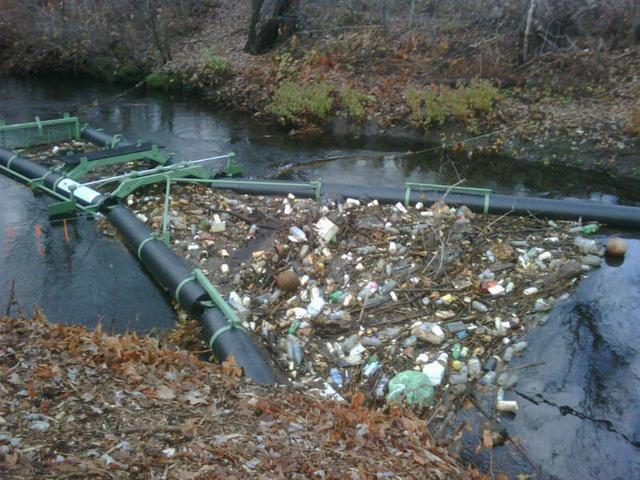garbage: (276, 232, 489, 364)
